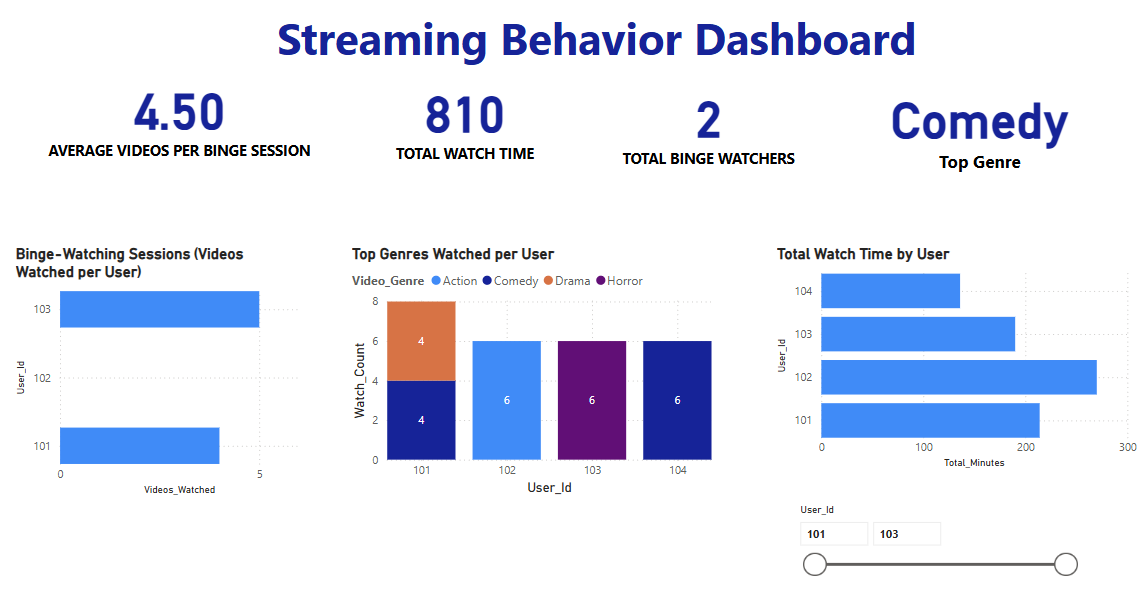

This screenshot's page, from the dashboard's own definition file:
{"tool":"powerbi","page":{"name":"Page 1","canvas":[1280,720],"ordinal":0},"visuals":[{"type":"barChart","title":"Binge-Watching Sessions (Videos Watched per User)","fields":{"Category":["binge_sessions.user_id"],"Y":["Sum(binge_sessions.videos_watched)"]},"box":[28.8,304.6,325.2,279.9],"z":0},{"type":"columnChart","title":"Top Genres Watched per User","fields":{"Category":["genre_counts.user_id"],"Series":["genre_counts.video_genre"],"Y":["Sum(genre_counts.watch_count)"]},"box":[397.9,304.6,404.8,279.9],"z":1000},{"type":"card","fields":{"Values":["Sum(user_watch_time.total_minutes)"]},"box":[373.2,94.7,307.4,142.7],"z":2000},{"type":"card","fields":{"Values":["Count(binge_sessions.user_id)"]},"box":[653.2,105.7,282.7,131.7],"z":3000},{"type":"card","fields":{"Values":["Avg(binge_sessions.videos_watched)"]},"box":[28.8,87.8,369.1,149.6],"z":4000},{"type":"actionButton","box":[0,0,100,40],"z":5000},{"type":"card","fields":{"Values":["genre_counts.TopGenre"]},"box":[935.9,105.7,312.9,137.2],"z":6000},{"type":"clusteredBarChart","title":"Total Watch Time by User","fields":{"Category":["user_watch_time.user_id"],"Y":["Sum(user_watch_time.total_minutes)"]},"box":[864.5,304.6,404.8,251.1],"z":7000},{"type":"slicer","fields":{"Values":["binge_sessions.user_id"]},"box":[882.3,584.6,325.2,135.8],"z":8000},{"type":"textbox","box":[315.6,39.8,763,82.3],"z":9000}]}

Visuals, with their boxes on the page's 1280x720 design canvas (x1, y1, x2, y2). These are canvas units, not pixel positions in the 1147x613 screenshot, which may show the page scaled, cropped or inside an application window:
"Binge-Watching Sessions (Videos Watched per User)" barChart: detection(29, 305, 354, 584)
"Top Genres Watched per User" columnChart: detection(398, 305, 803, 584)
card - Sum(user_watch_time.total_minutes): detection(373, 95, 681, 237)
card - Count(binge_sessions.user_id): detection(653, 106, 936, 237)
card - Avg(binge_sessions.videos_watched): detection(29, 88, 398, 237)
actionButton: detection(0, 0, 100, 40)
card - genre_counts.TopGenre: detection(936, 106, 1249, 243)
"Total Watch Time by User" clusteredBarChart: detection(864, 305, 1269, 556)
slicer - binge_sessions.user_id: detection(882, 585, 1208, 720)
textbox: detection(316, 40, 1079, 122)
